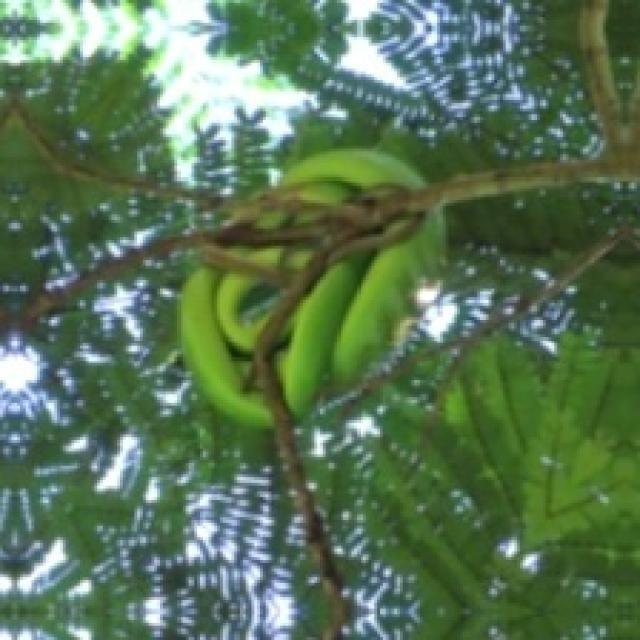red-tailed green ratsnake: (274, 211, 443, 414), (177, 266, 274, 423), (254, 149, 425, 230)
